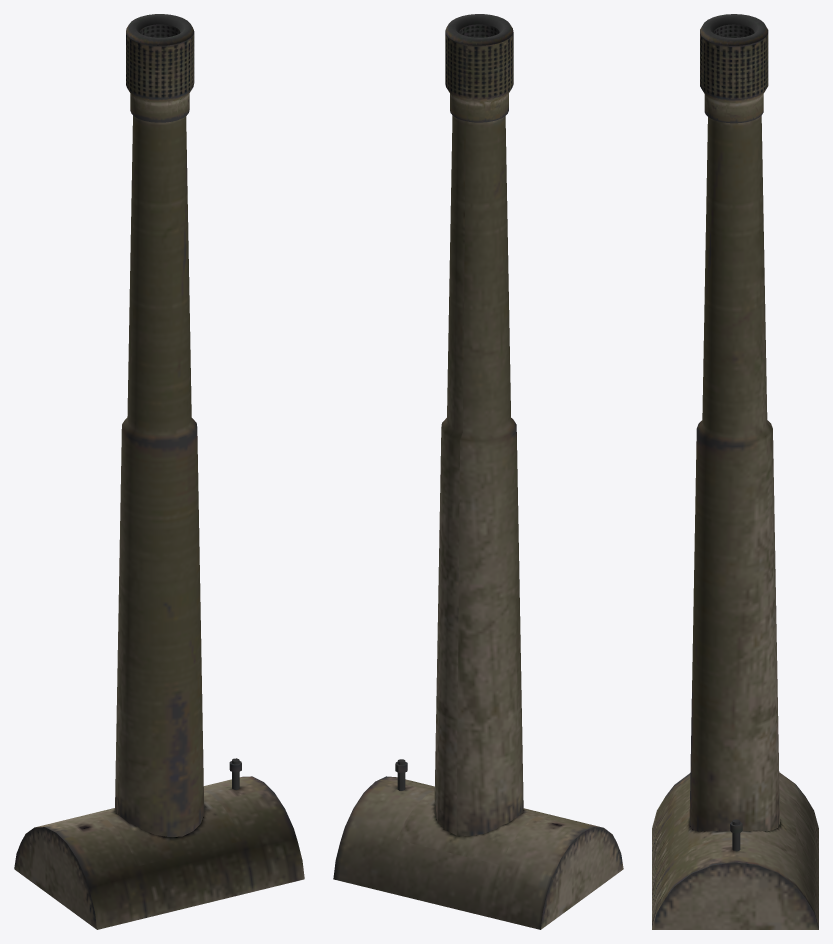
File: Gun_02.glb
3 renders of one model, left to right at view 1: azimuth 30°, elevation 25°; view 2: azimuth 150°, elevation 25°; view 3: azimuth 270°, elevation 25°, orthographic.
Visible parts, largest first — view 1: set_0_group_0; view 2: set_0_group_0; view 3: set_0_group_0.
Part boxes in pixels (<box>): set_0_group_0: <box>14,14,304,929</box>; set_0_group_0: <box>333,14,623,929</box>; set_0_group_0: <box>652,14,818,929</box>.
Size of the model in its own units: 0.724 by 2.82 by 0.5014.
Materials: 1 (1 with a texture image).
